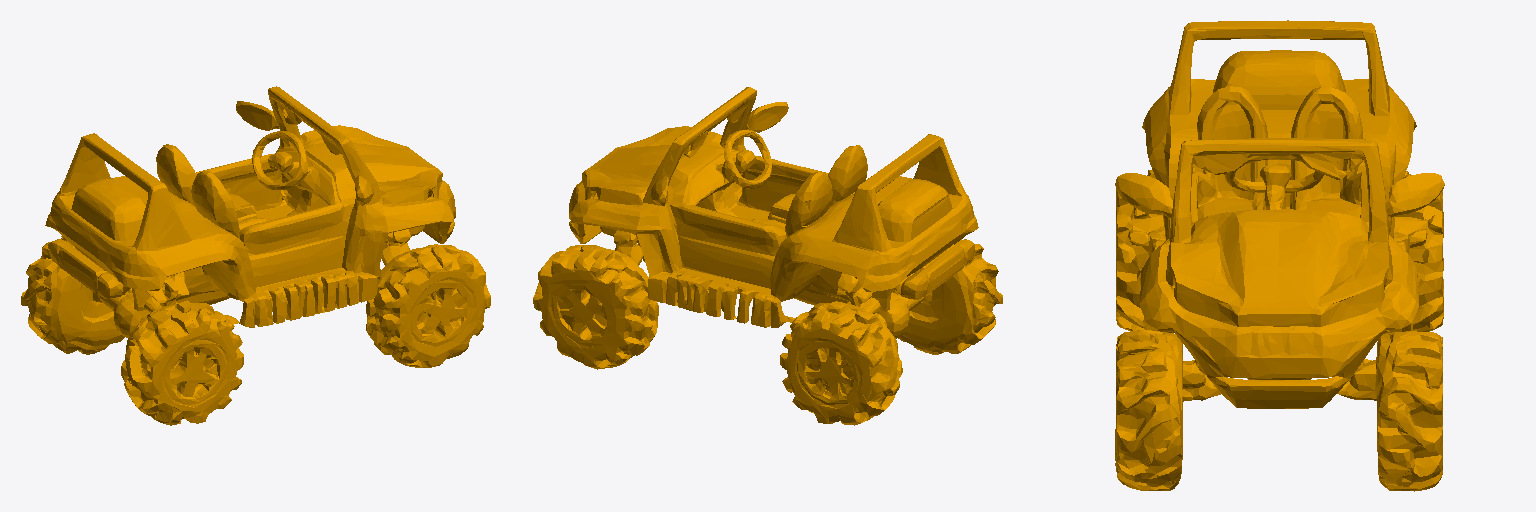
URDF robot description (sample):
<?xml version="1.0" ?>
<robot name="sample">
   <link name="sample">
      <visual>
         <origin xyz="0 0 0" rpy="1.5708 0.0 0.0"/>
         <geometry>
            <mesh filename="mesh/sample.obj" scale="1.0 1.0 1.0"/>
         </geometry>
      </visual>
      <collision>
         <origin xyz="0 0 0" rpy="1.5708 0.0 0.0"/>
         <geometry>
            <mesh filename="mesh/sample_collision.obj" scale="1.0 1.0 1.0"/>
         </geometry>
         <gazebo>
            <mu1>0.70</mu1>
            <mu2>0.55</mu2>
         </gazebo>
      </collision>
      <inertial>
         <mass value="20.0000"/>
         <origin xyz="0 0 0"/>
         <inertia ixx="1.0" ixy="0.0" ixz="0.0" iyy="1.0" iyz="0.0" izz="1.0"/>
      </inertial>
      <extra_info>
         <scale>1.065466</scale>
         <version>v0.1.7</version>
         <category>toy</category>
         <description>yellow and black off-road toy vehicle with large wheels</description>
         <min_height>0.6</min_height>
         <max_height>0.7</max_height>
         <real_height>0.65</real_height>
         <min_mass>15.0</min_mass>
         <max_mass>25.0</max_mass>
         <color>yellow</color>
         <rgba>[1.0, 0.8, 0.0, 1.0]</rgba>
         <generate_time>20260525134837</generate_time>
         <gs_model>mesh/sample_gs.ply</gs_model>
      </extra_info>
   </link>
   <custom_data>
      <quality>
         <MeshGeoChecker>YES</MeshGeoChecker>
         <ImageSegChecker>NO, segmentation has artifacts and incomplete edges, especially on the right side and wheels.</ImageSegChecker>
         <ImageAestheticChecker>3.801965832710266</ImageAestheticChecker>
         <overall>NO</overall>
      </quality>
   </custom_data>
</robot>

--- Facts derived from the render (not from the file) ---
3 views of the same robot in one strip: view 1: azimuth 30°, elevation 25°; view 2: azimuth 150°, elevation 25°; view 3: azimuth 270°, elevation 25° (orthographic).
Model sample with 1 links and 0 joints (none), rooted at sample, posed all joints at 0.
Visible links, largest first — view 1: sample; view 2: sample; view 3: sample.
Link boxes in pixels (x1,y1,x2,y2): sample: (21, 86, 490, 425); sample: (533, 87, 1002, 425); sample: (1115, 20, 1444, 491).
Bounding box of the posed robot: 1.07 × 0.649 × 0.65 m (x, y, z).
1 mesh visuals loaded from 1 distinct referenced files (1 OBJ).
